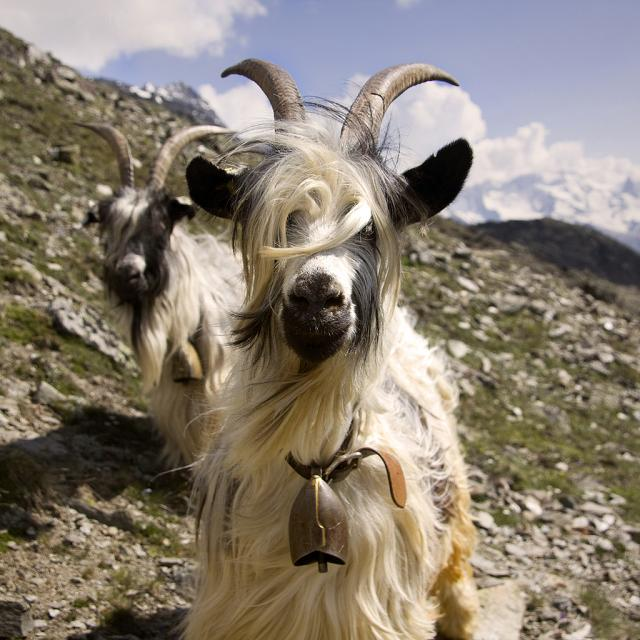Goat: (95, 59, 482, 640)
